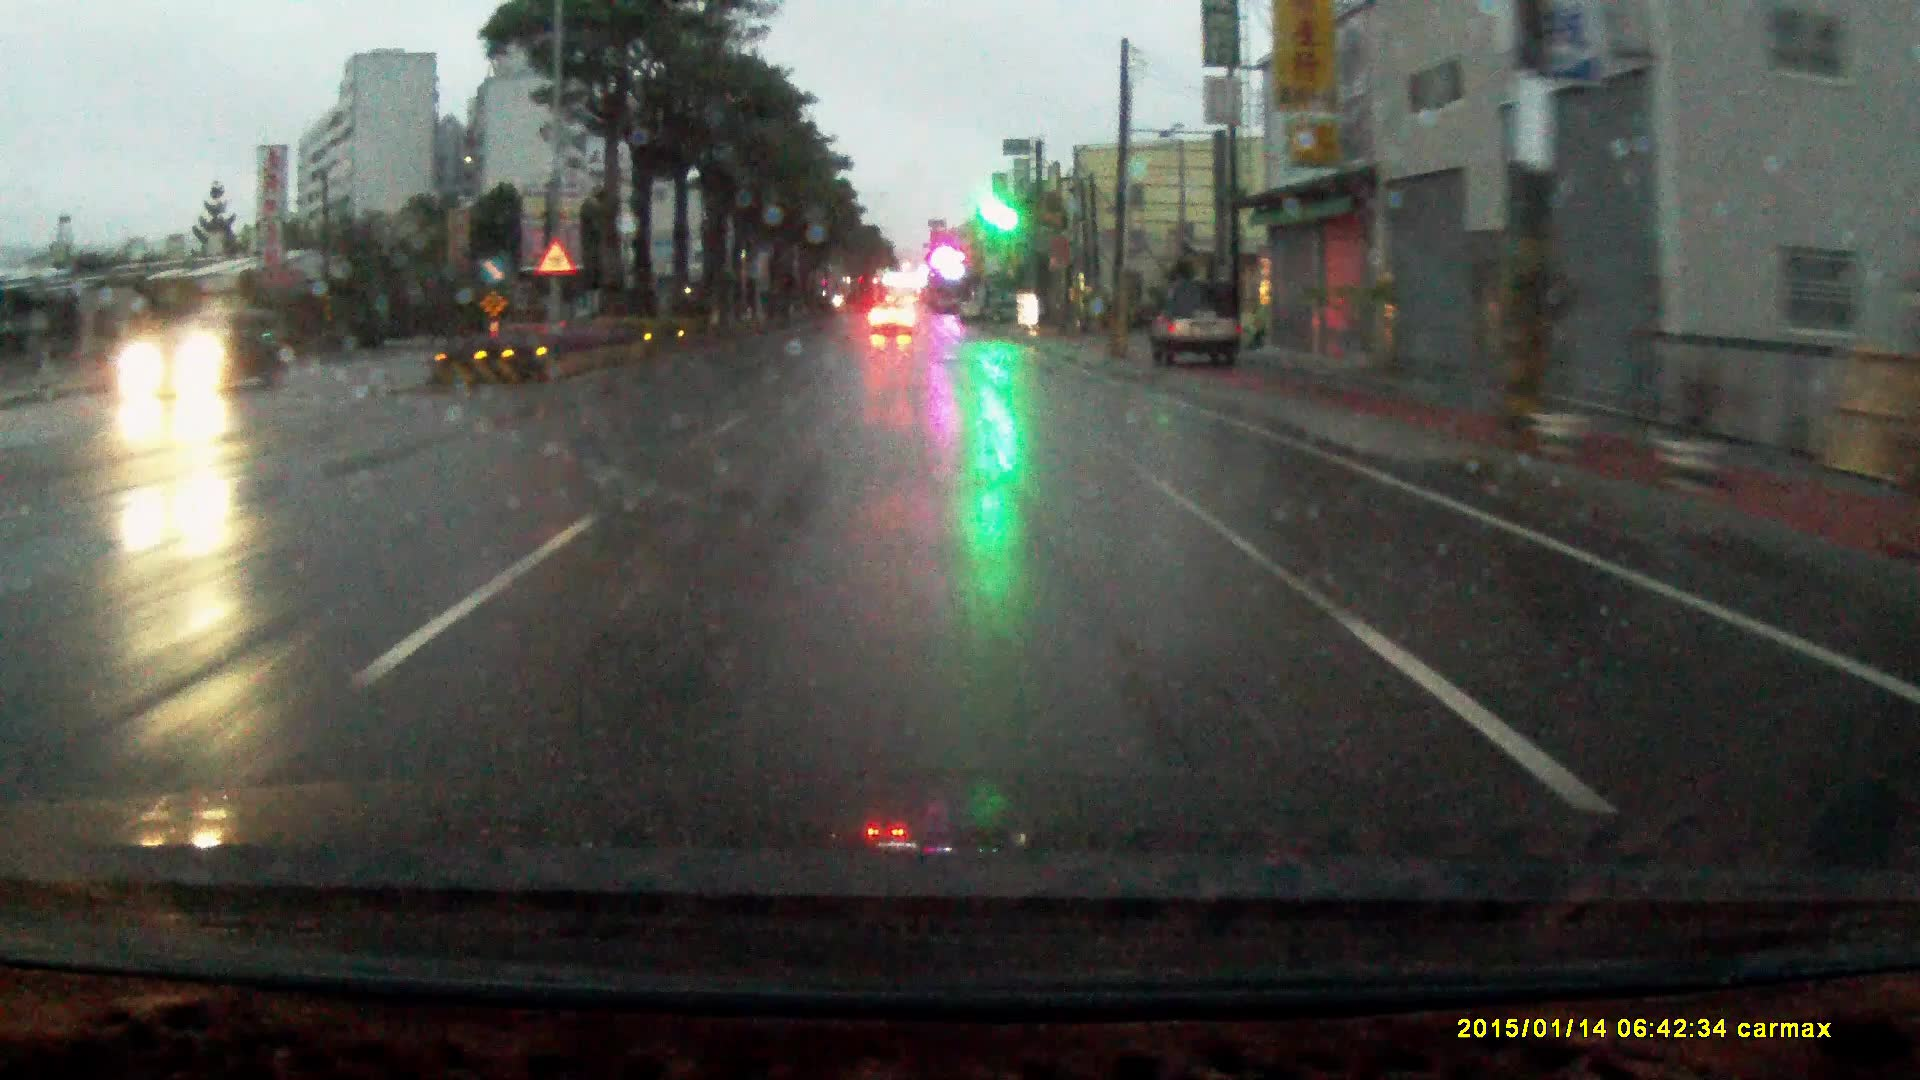vehicle: (113, 301, 302, 398), (1149, 268, 1247, 363), (870, 302, 914, 340)
